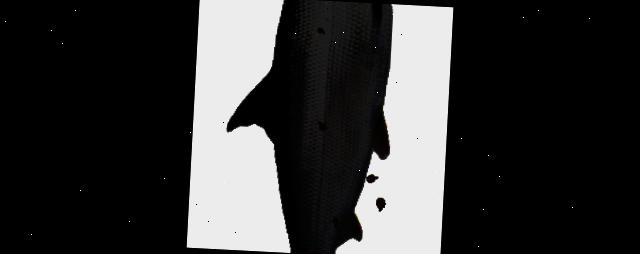Parasitic Disease: (228, 0, 392, 254)
